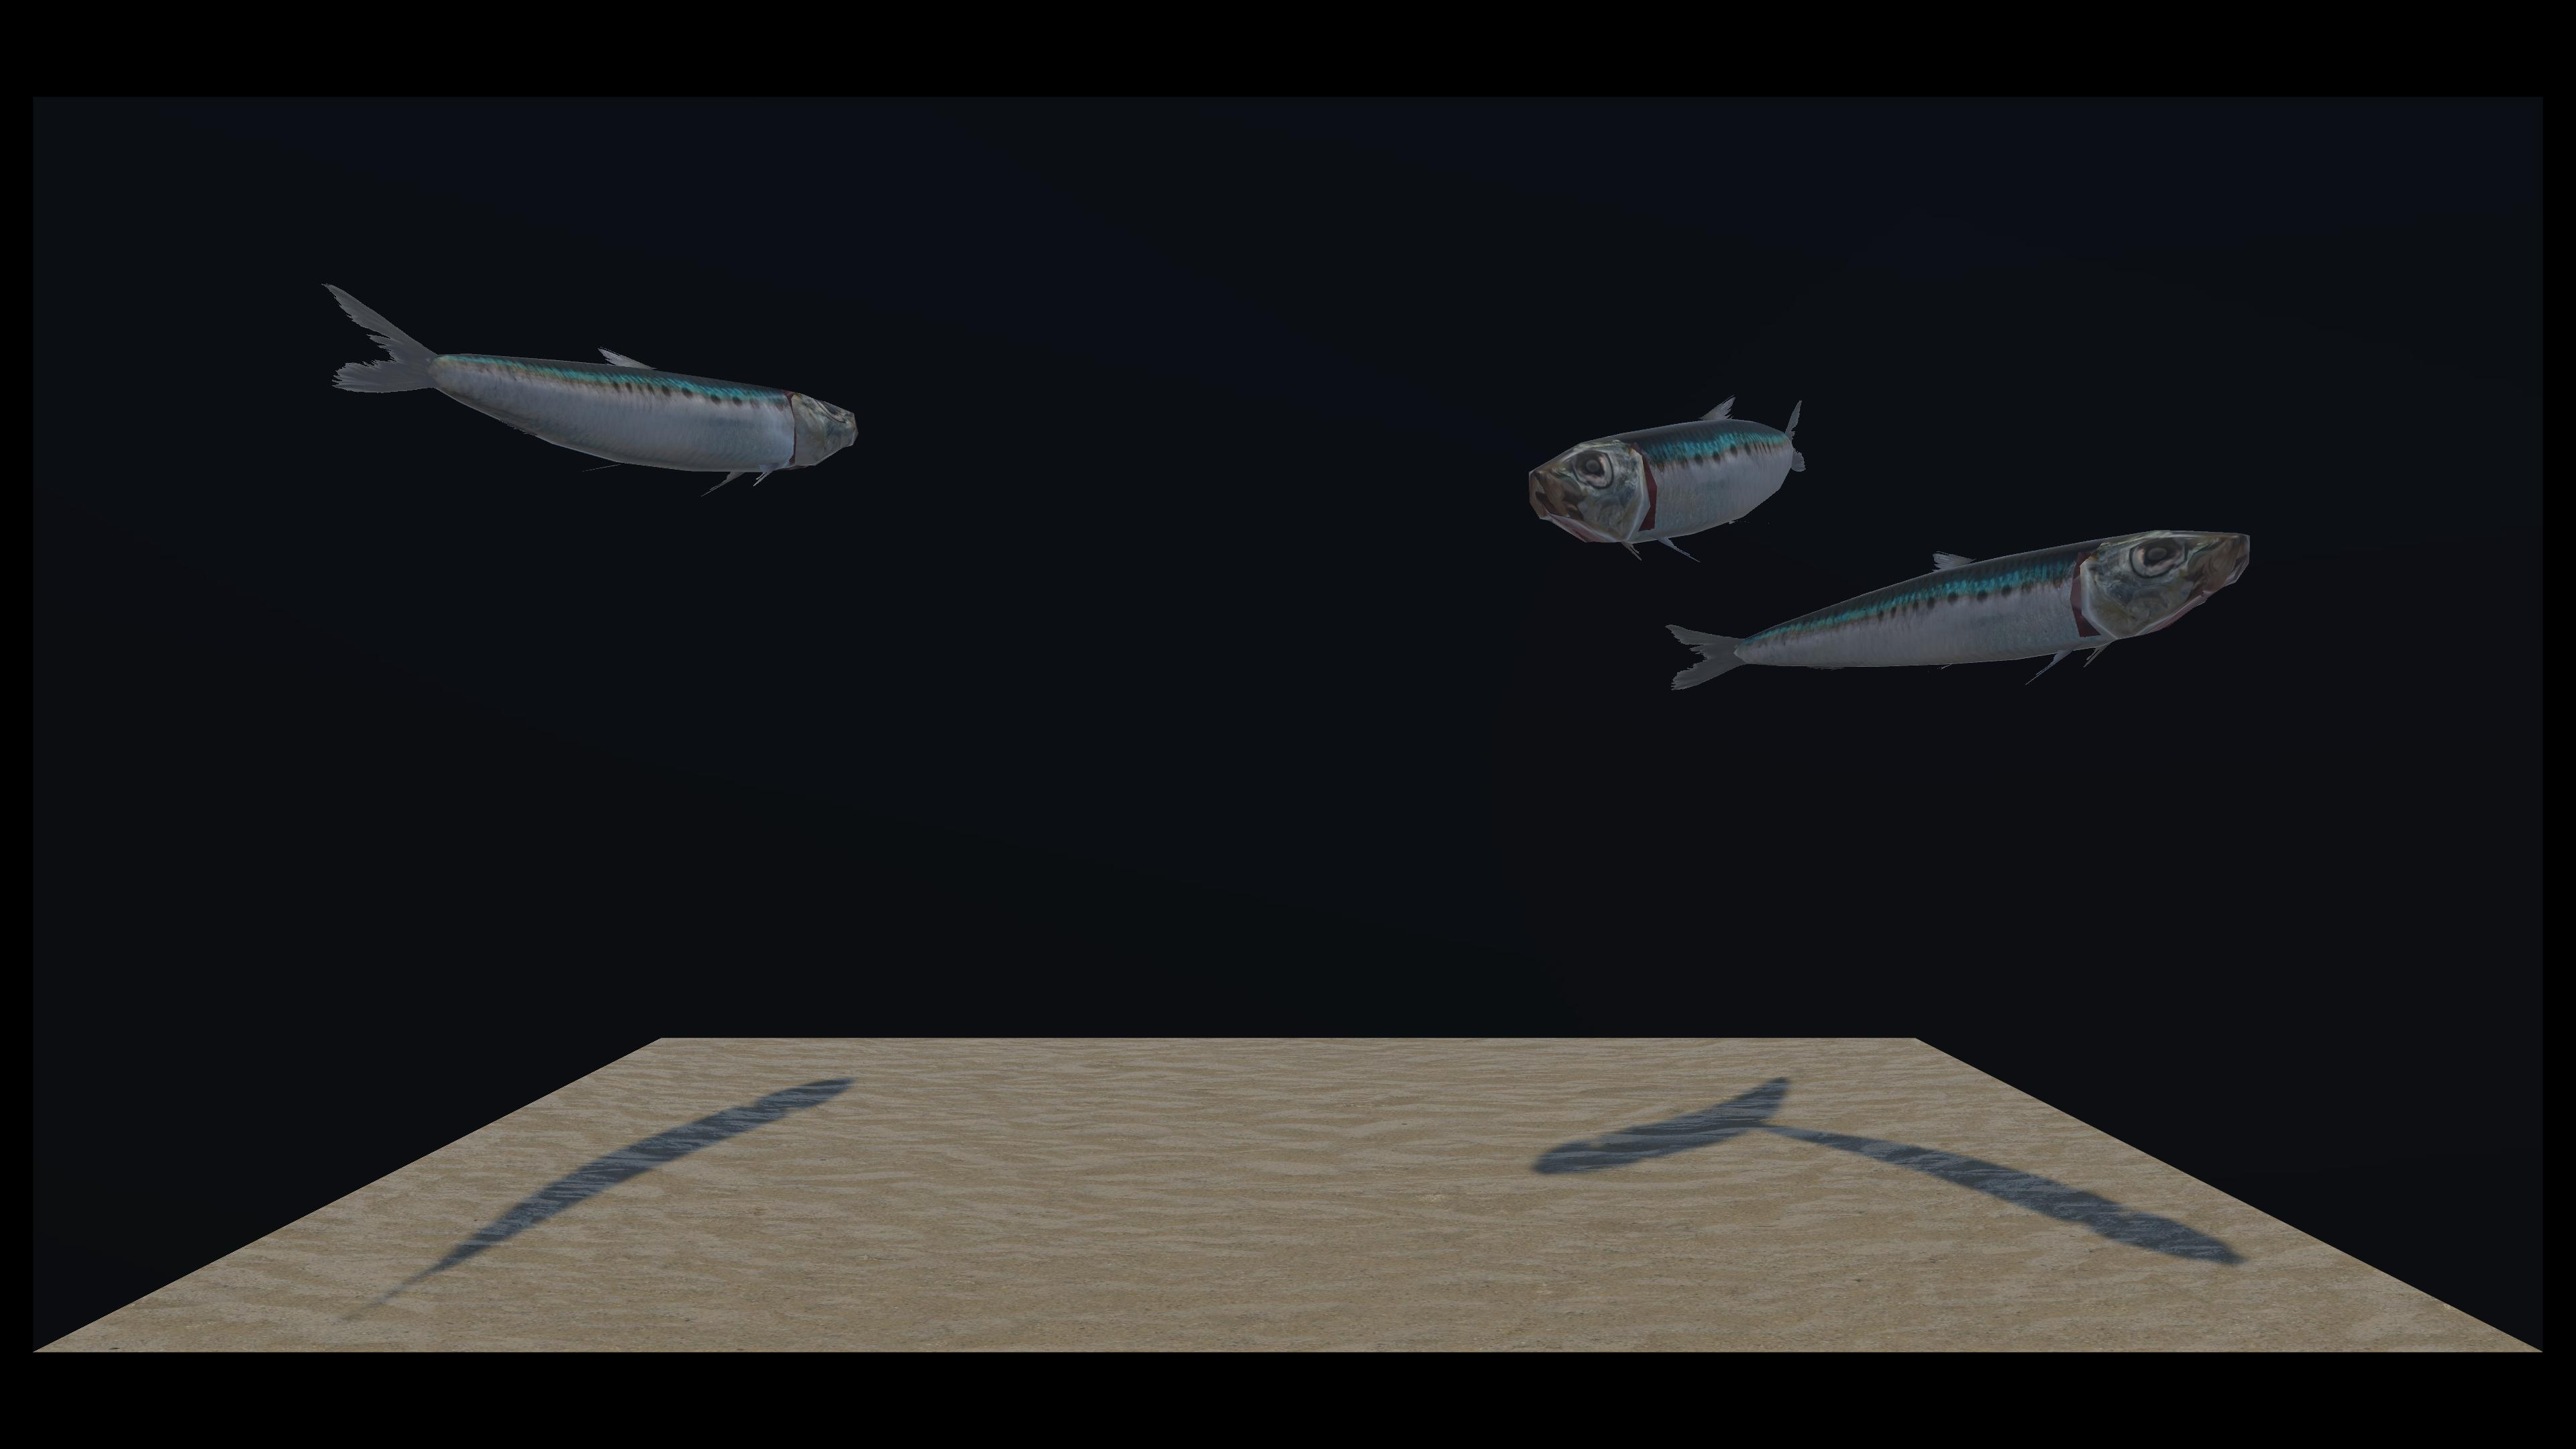Sardine_Front: (837, 375, 2236, 695), (336, 281, 964, 591), (828, 400, 1817, 568)
